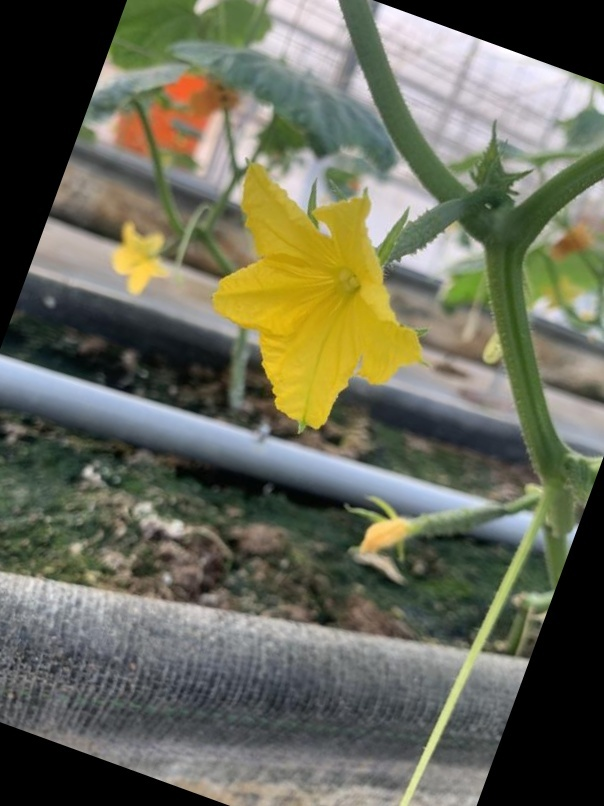flowering: (181, 153, 498, 438)
